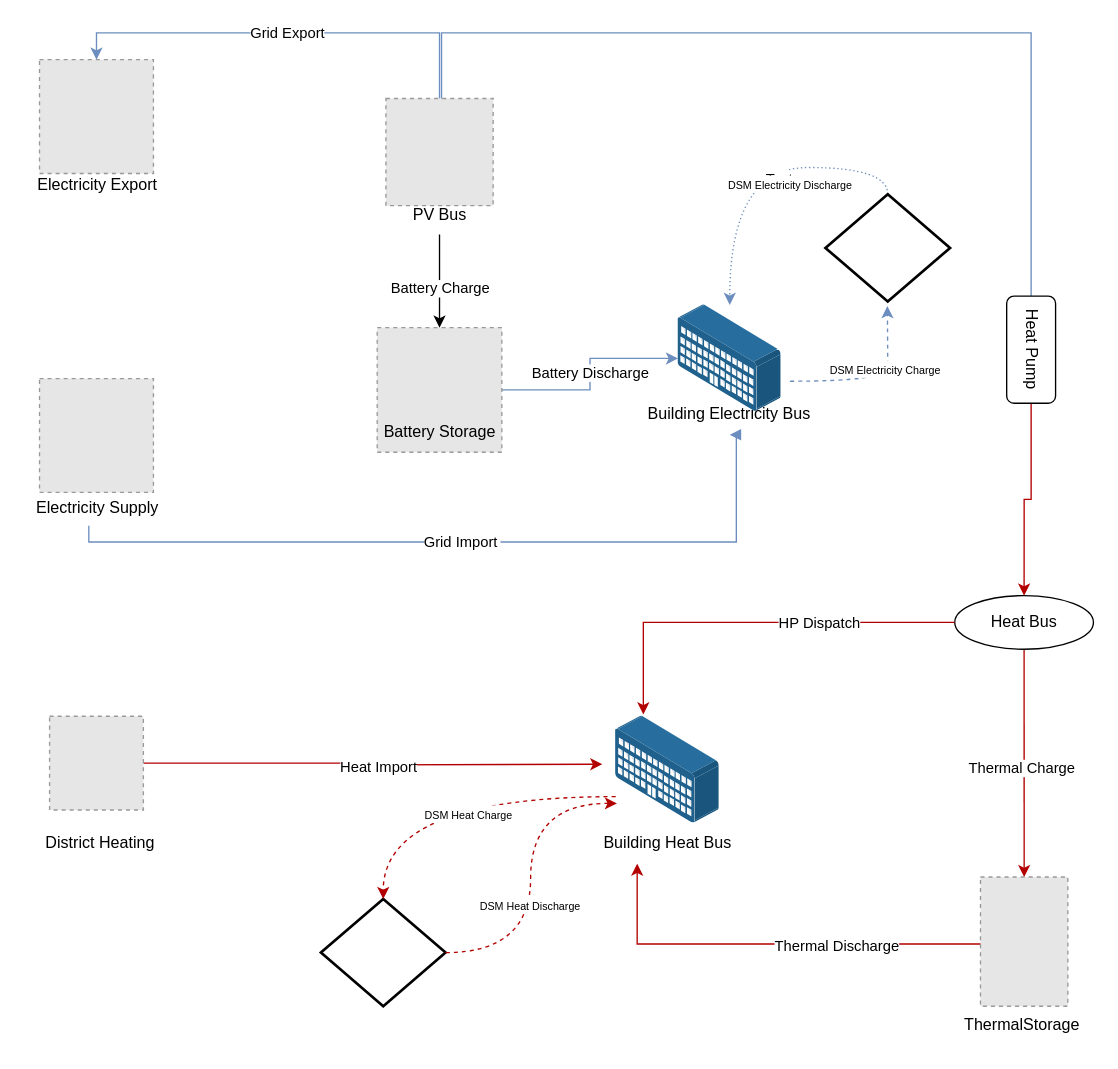
The diagram is 1118 pixels wide and 1069 high, and some of its shapes have lost their labels. Grey dashed boxes stand in for pictures. The shapes that lost their labels are listed below. From the top down, each one's centre as x and y in pixels, then its label:
At point (887, 247): "DSM Electricity Storage".
At point (382, 952): "DSM Heating Storage".
